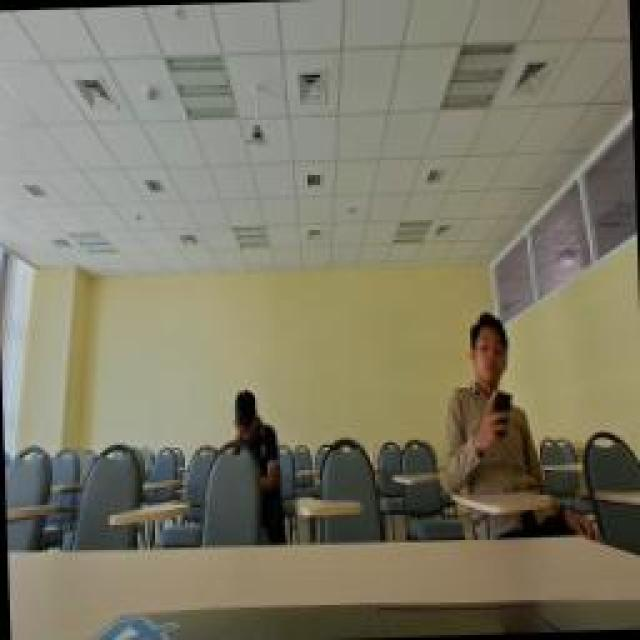phone: (435, 305, 543, 497)
study: (222, 378, 282, 490)
